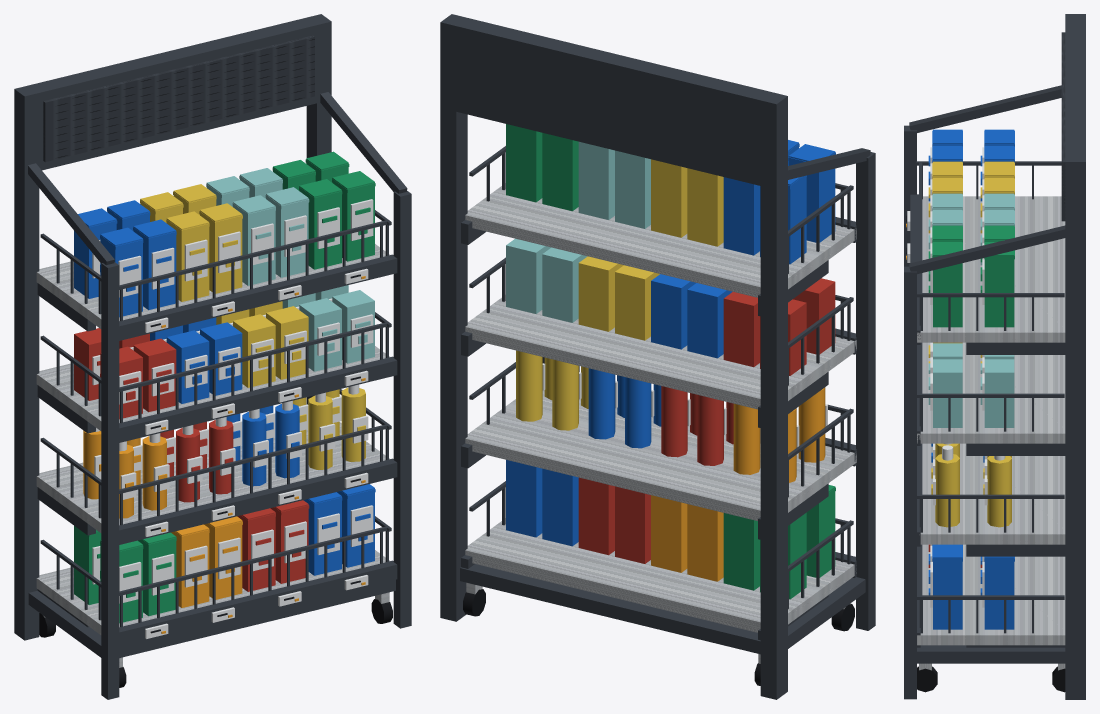
File: shelf-wire.glb
3 views of the same model, side by side, from view 1: azimuth 30°, elevation 25°; view 2: azimuth 150°, elevation 25°; view 3: azimuth 270°, elevation 25° (orthographic). The views are drawn at different scales.
Parts seen in each view (by area): view 1: ShelfWire, stock-labels_eef1f4, shelf-details_3c434c, shelf-post-left, stock-packages_1b6fd6, shelf-header, stock-packages_1f9c63, stock-packages_8ccaca, stock-packages_e6c543, stock-packages_bc3a2f, shelf-deck-1, stock-packages_f0a128 (+17 smaller); view 2: shelf-header, ShelfWire, shelf-post-left, shelf-deck-1, stock-packages_1b6fd6, shelf-post-right, shelf-deck-2, shelf-deck-3, shelf-deck-0, stock-packages_1f9c63, shelf-details_3c434c, stock-packages_bc3a2f (+8 smaller); view 3: ShelfWire, shelf-post-right, shelf-deck-3, shelf-details_3c434c, shelf-deck-1, shelf-deck-0, shelf-deck-2, stock-packages_8ccaca, stock-packages_1b6fd6, stock-packages_1f9c63, stock-bottles_e6c543, shelf-header (+9 smaller).
Part boxes in pixels (x1,y1,x2,y2): ShelfWire: (28, 35, 411, 699); stock-labels_eef1f4: (92, 199, 373, 638); shelf-details_3c434c: (37, 210, 391, 627); shelf-post-left: (14, 85, 39, 640); stock-packages_1b6fd6: (74, 200, 374, 575); shelf-header: (20, 17, 330, 173); stock-packages_1f9c63: (74, 151, 374, 623); stock-packages_8ccaca: (206, 168, 374, 371); stock-packages_e6c543: (140, 184, 308, 387); stock-packages_bc3a2f: (74, 328, 308, 591); shelf-deck-1: (36, 422, 389, 532); stock-packages_f0a128: (171, 516, 242, 607); shelf-header: (443, 18, 785, 188); ShelfWire: (460, 148, 875, 685); shelf-post-left: (760, 92, 787, 699); shelf-deck-1: (465, 390, 856, 520); stock-packages_1b6fd6: (506, 140, 835, 546); shelf-post-right: (440, 14, 467, 621); shelf-deck-2: (465, 295, 856, 409); shelf-deck-3: (465, 183, 856, 297); shelf-deck-0: (465, 518, 856, 632); stock-packages_1f9c63: (506, 124, 835, 599); shelf-details_3c434c: (461, 146, 853, 640); stock-packages_bc3a2f: (578, 278, 835, 563); ShelfWire: (904, 32, 1065, 699); shelf-post-right: (1065, 155, 1085, 699); shelf-deck-3: (917, 196, 1065, 342); shelf-details_3c434c: (916, 161, 1065, 647); shelf-deck-1: (919, 443, 1065, 544); shelf-deck-0: (917, 544, 1065, 645); shelf-deck-2: (917, 342, 1065, 443); stock-packages_8ccaca: (933, 193, 1014, 427); stock-packages_1b6fd6: (933, 129, 1014, 629); stock-packages_1f9c63: (933, 225, 1014, 327); stock-bottles_e6c543: (935, 443, 1011, 527); shelf-header: (1065, 21, 1085, 161).
Bounding box in the file's own units: 0.945 × 1.6 × 0.49.
13 materials, 2 textured.
